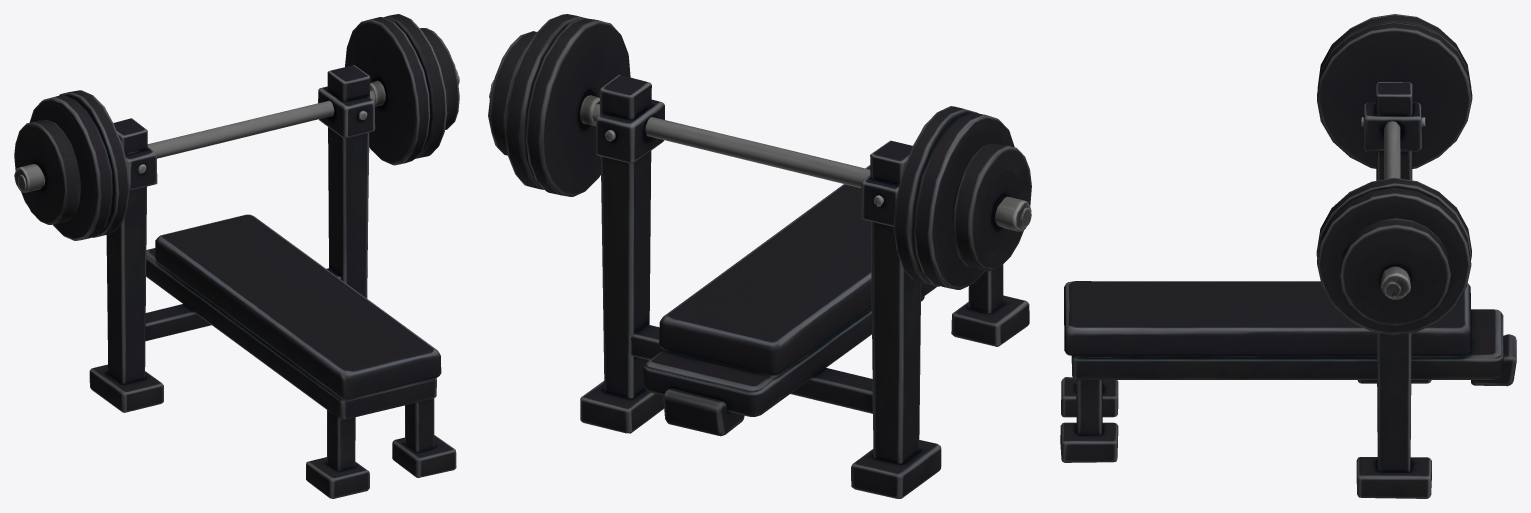
Rendered from weight-bench.glb.
3 views of the same model, side by side, from view 1: azimuth 30°, elevation 25°; view 2: azimuth 150°, elevation 25°; view 3: azimuth 270°, elevation 25° (orthographic). The views are drawn at different scales.
Visible parts, largest first — view 1: geometry_0; view 2: geometry_0; view 3: geometry_0.
Boxes of the visible parts, x1,y1,x2,y2 form: geometry_0: [14, 14, 459, 498]; geometry_0: [488, 14, 1031, 498]; geometry_0: [1060, 14, 1516, 498].
Bounding box in the file's own units: 1 × 0.6849 × 0.8603.
1 material, 1 textured.
